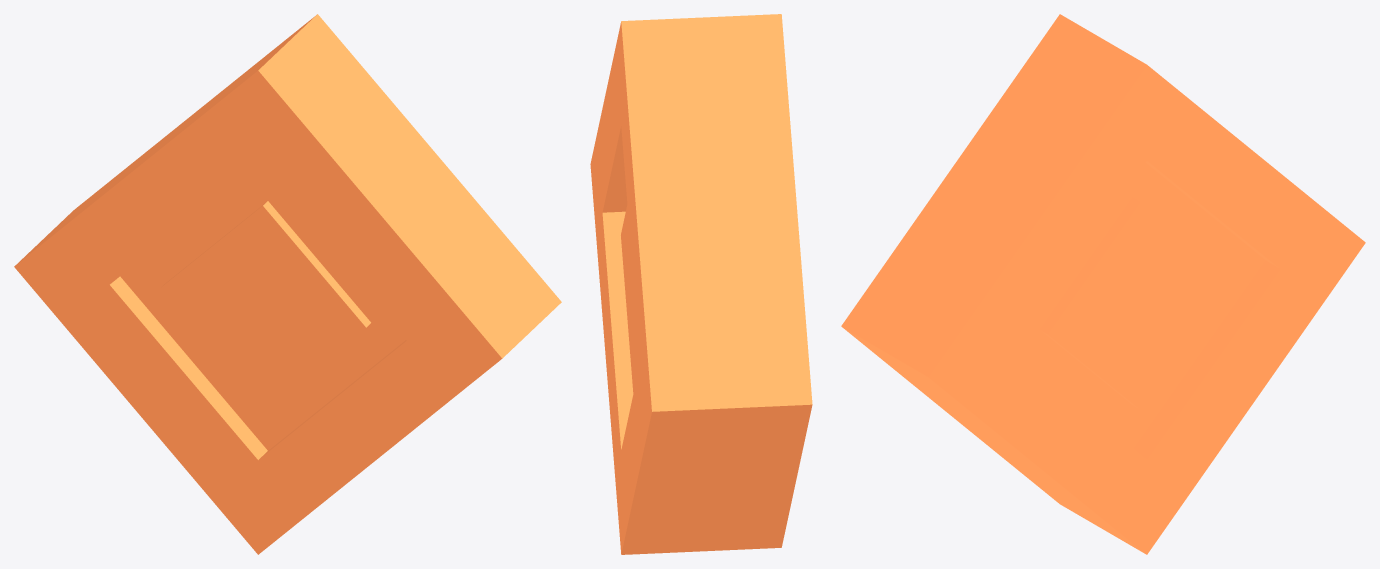
File: Coin.fbx
3 views of the same model, side by side, from view 1: azimuth 30°, elevation 25°; view 2: azimuth 150°, elevation 25°; view 3: azimuth 270°, elevation 25° (orthographic). The views are drawn at different scales.
Visible parts, largest first — view 1: Coin; view 2: Coin; view 3: Coin.
Part boxes in pixels (x1,y1,x2,y2): Coin: (14, 14, 561, 554); Coin: (590, 14, 812, 554); Coin: (841, 14, 1365, 554).
Bounding box in the file's own units: 126 × 155 × 151.
